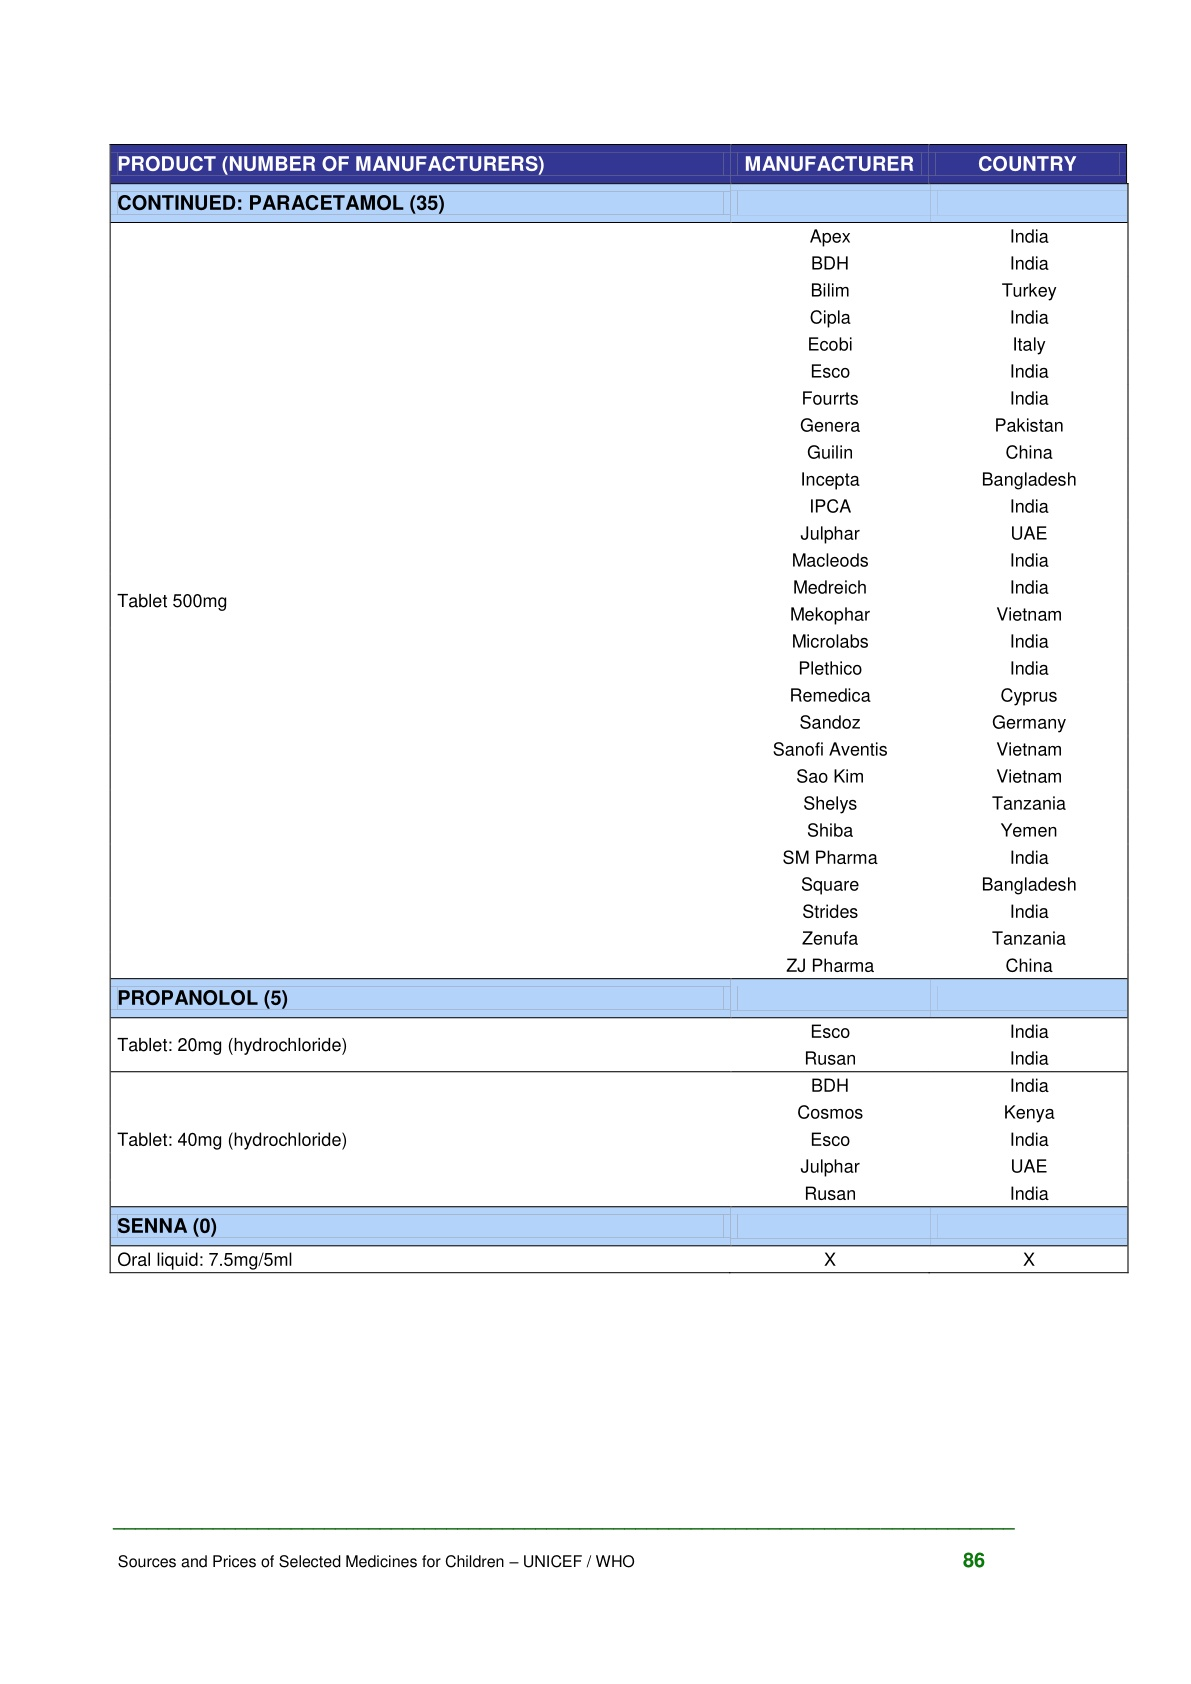partial_lined_merged_cells: (110, 143, 1129, 1274)
